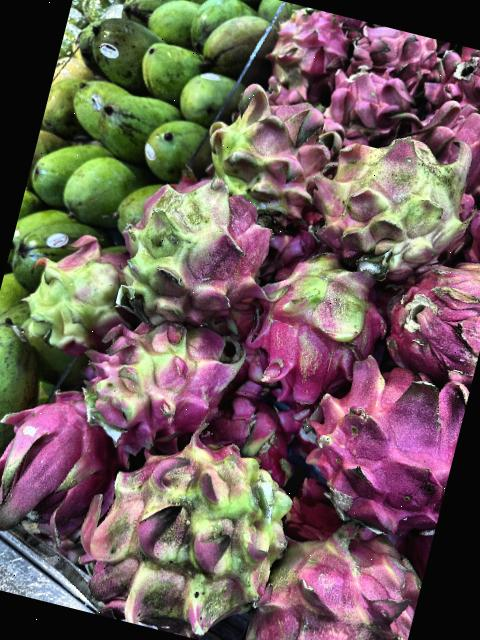buah-naga-belum-matang: (70, 414, 303, 640), (287, 102, 480, 289), (99, 160, 288, 341), (235, 234, 406, 423), (73, 300, 252, 460), (246, 499, 433, 640), (196, 68, 349, 229), (17, 223, 152, 352), (250, 2, 350, 105)
buah-naga-matang: (294, 337, 474, 542), (382, 251, 480, 383), (393, 79, 480, 190), (316, 61, 430, 145), (342, 19, 447, 92), (427, 41, 480, 124), (455, 162, 480, 271)
